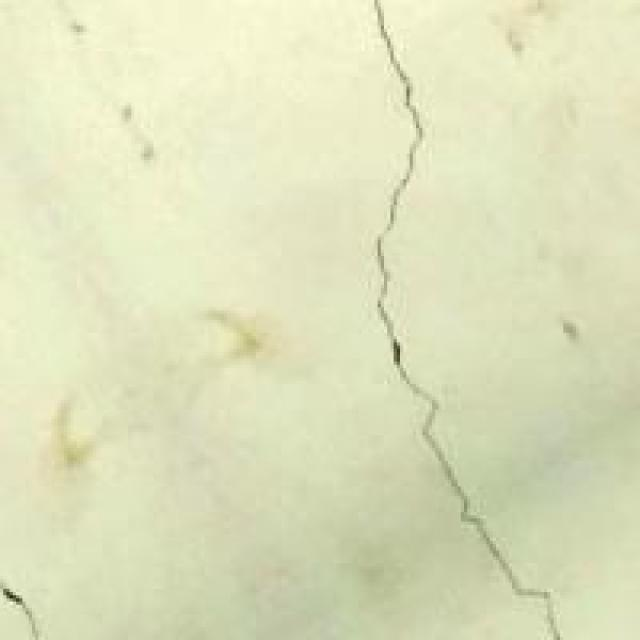crack: (317, 0, 470, 480)
